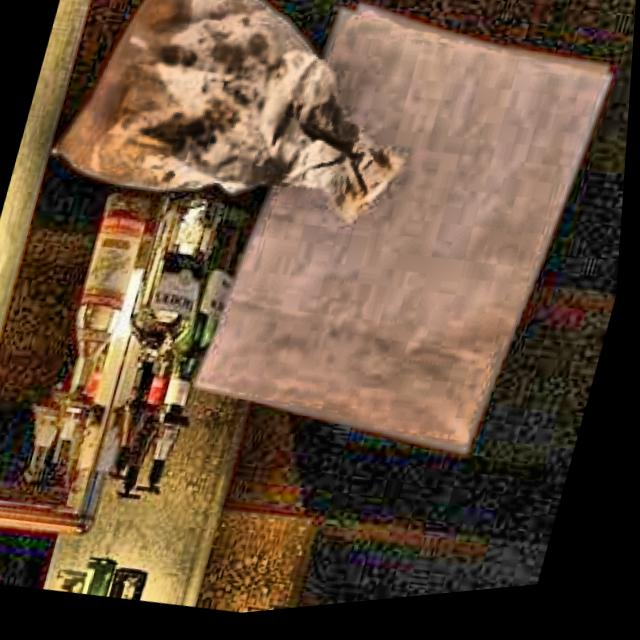Paper-bag: (153, 0, 640, 512), (15, 0, 449, 284)
